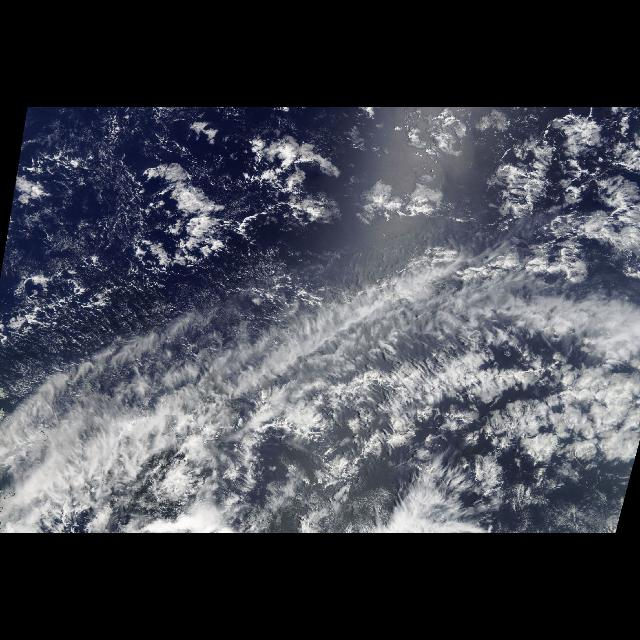Fish: (0, 268, 466, 486)
Flower: (17, 112, 639, 284), (409, 356, 639, 474)
Gravel: (1, 114, 350, 362)
